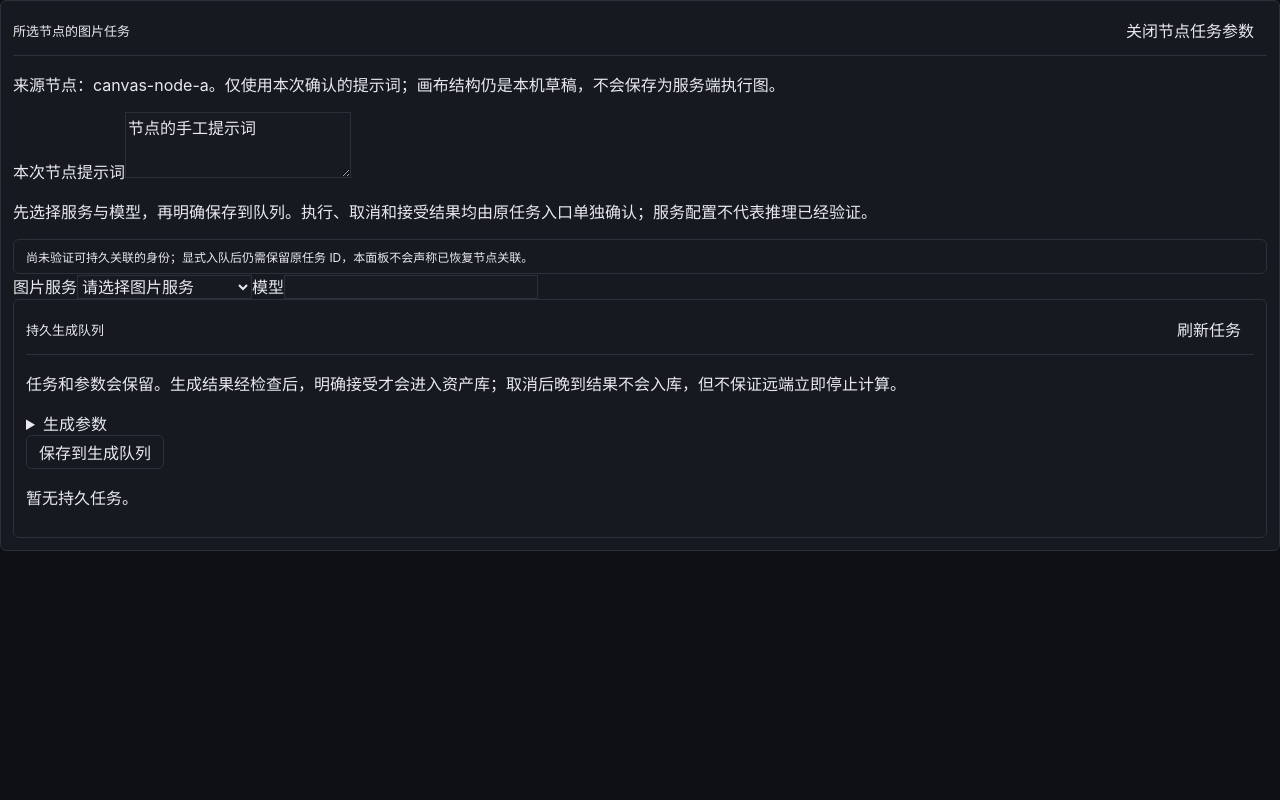
Test: CanvasImageQueue › shows a rejected queue write instead of inventing a successful Job
Select "Fixture local service" in the dropdown named "画布任务图片服务". click: (164, 287)
box: [77,275,252,299]
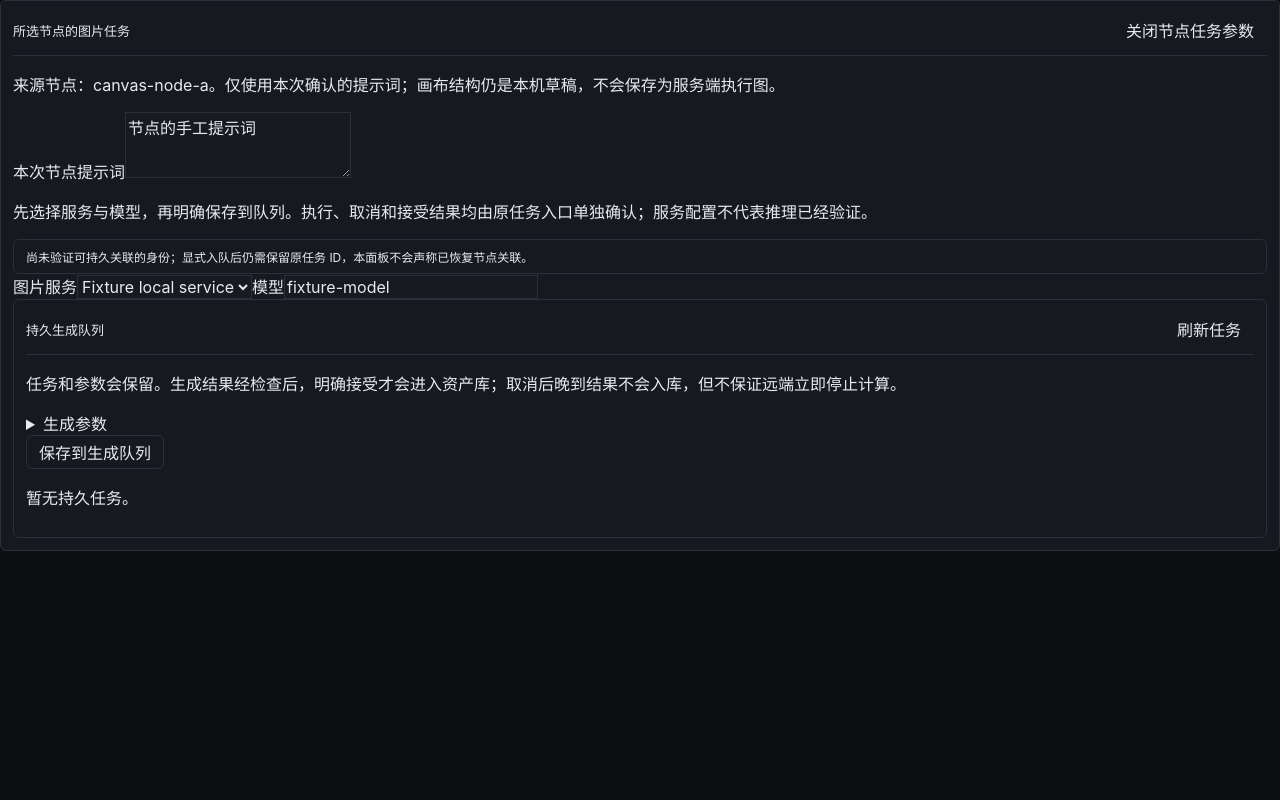
Click the button "保存到生成队列". click: (95, 452)
box: [26,435,164,469]
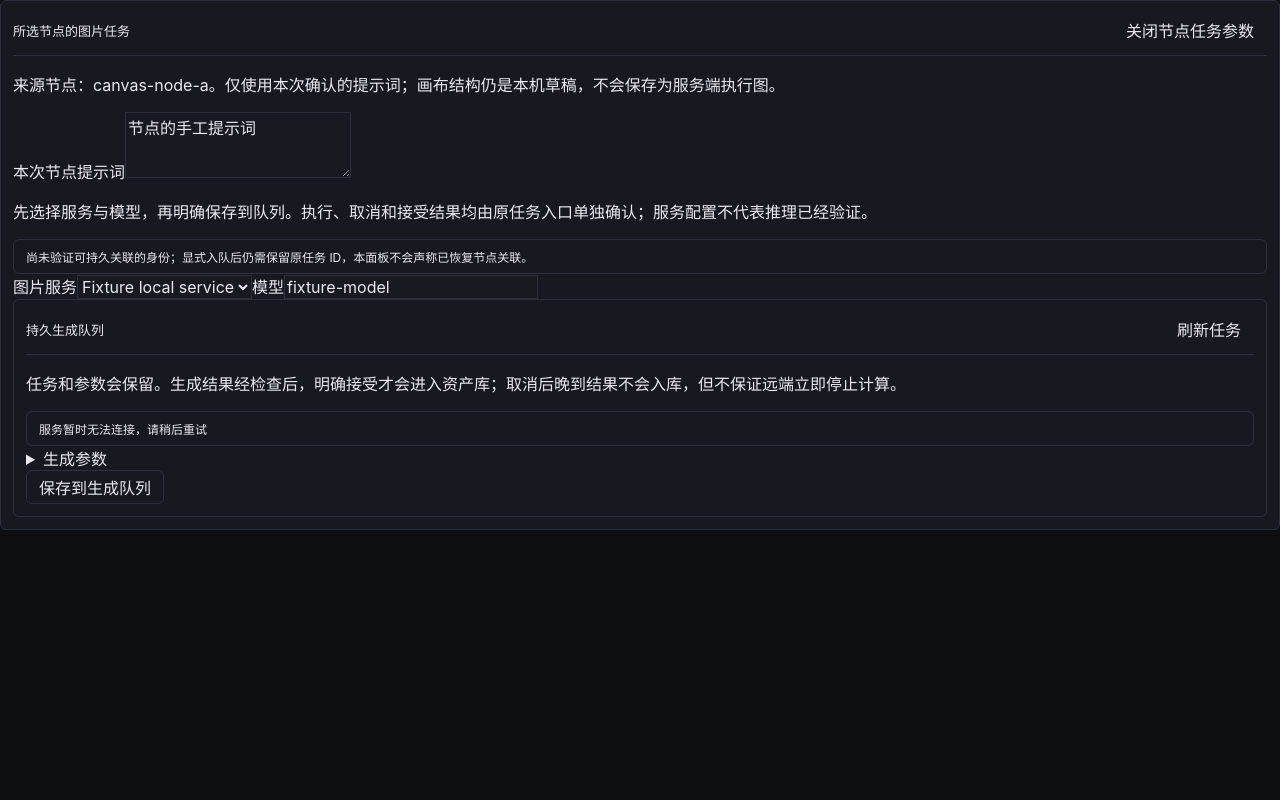
Check: the message "服务暂时无法连接，请稍后重试" is shown, box [26,411,1254,446]
